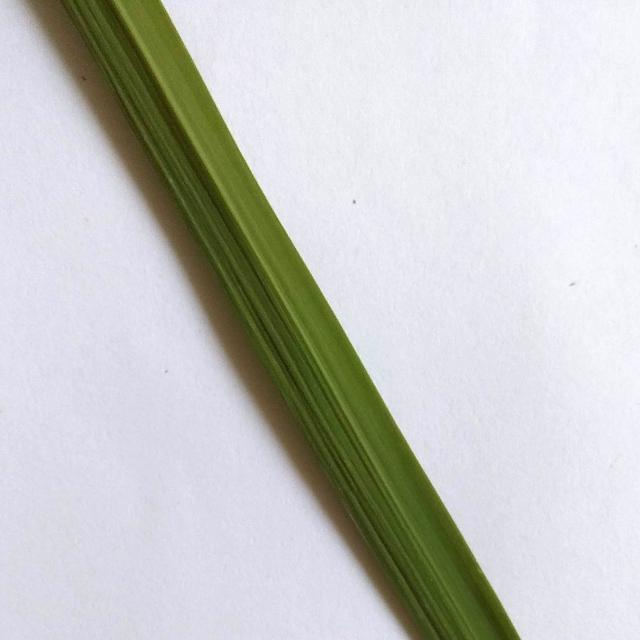Rice_Healthy: (66, 0, 521, 640)
